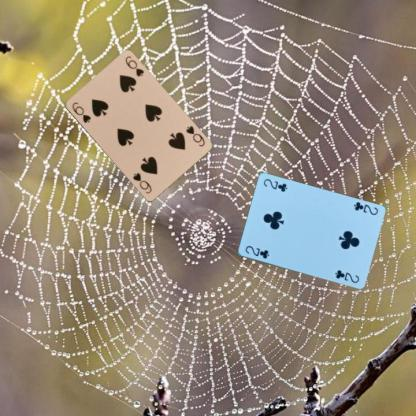2c: (351, 199, 379, 217), (243, 243, 270, 260)
6s: (183, 123, 206, 148), (69, 100, 92, 124)
